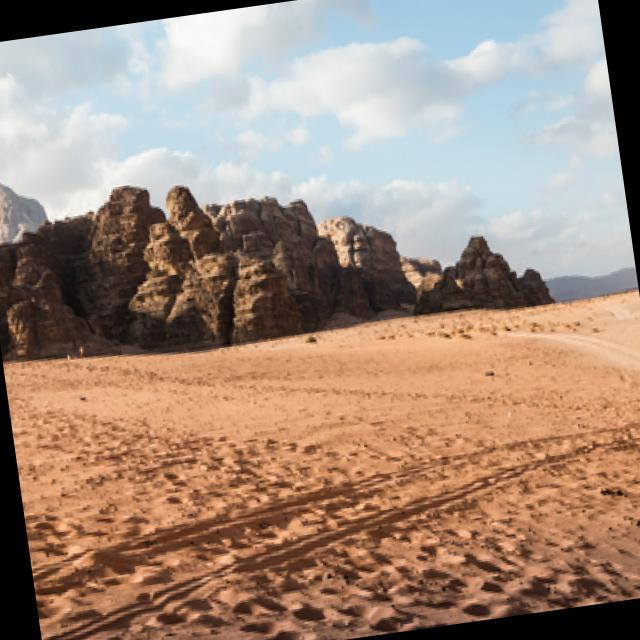red-sand: (3, 289, 640, 640)
rocks: (0, 185, 552, 360)
